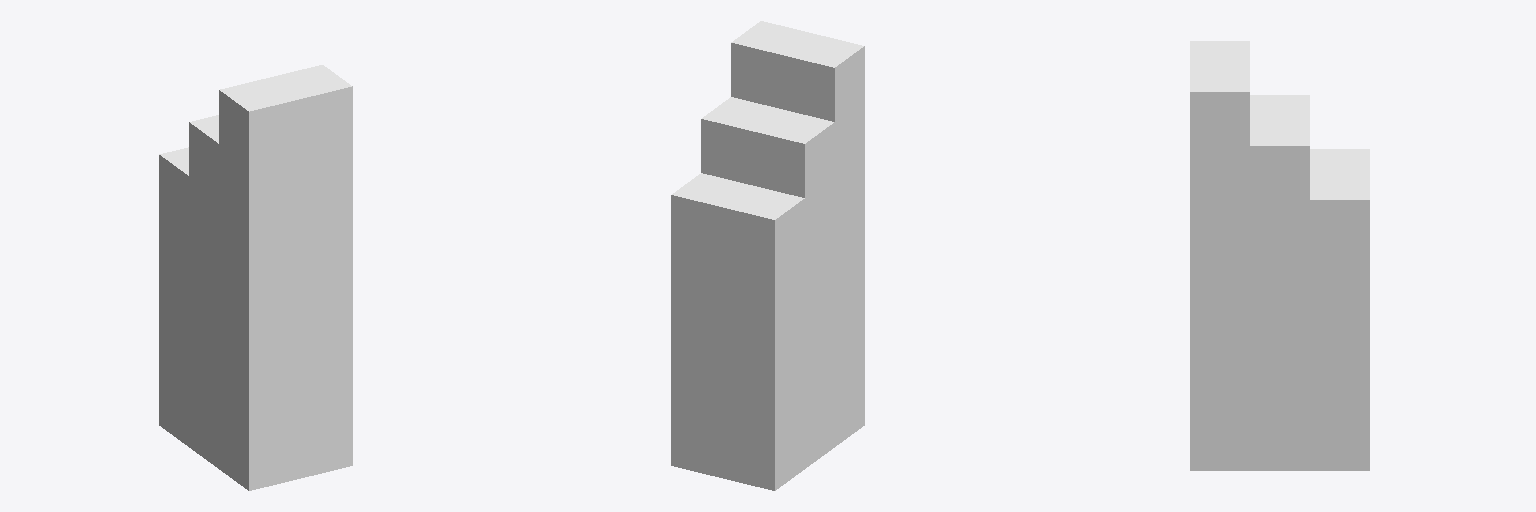
File: bombeman-3-legr.obj
3 renders of one model, left to right at view 1: azimuth 30°, elevation 25°; view 2: azimuth 150°, elevation 25°; view 3: azimuth 270°, elevation 25°, orthographic.
Visible parts, largest first — view 1: legr; view 2: legr; view 3: legr.
Boxes of the visible parts, x1,y1,x2,y2 form: legr: [159, 65, 352, 490]; legr: [671, 21, 864, 490]; legr: [1190, 41, 1369, 470].
Bounding box in the file's own units: 0.2 × 0.7 × 0.3.